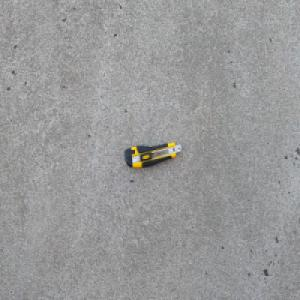Cutter: (123, 140, 182, 168)
